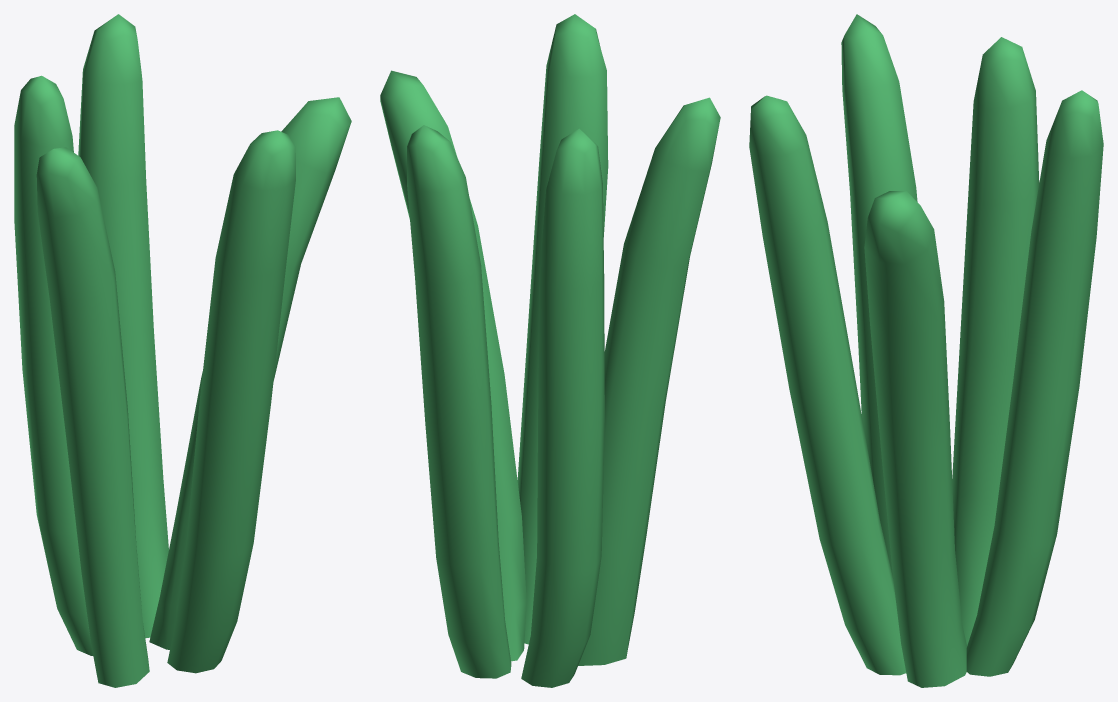
Rendered from Grass_B_06.fbx.
The picture shows the model from 3 angles, left to right: view 1: azimuth 30°, elevation 25°; view 2: azimuth 150°, elevation 25°; view 3: azimuth 270°, elevation 25°; orthographic projection.
Parts seen in each view (by area): view 1: Grass_B_06_LOD0; view 2: Grass_B_06_LOD0; view 3: Grass_B_06_LOD0.
Boxes of the visible parts, bbox=[...] form: Grass_B_06_LOD0: bbox=[14, 14, 351, 687]; Grass_B_06_LOD0: bbox=[380, 14, 720, 687]; Grass_B_06_LOD0: bbox=[749, 14, 1103, 687].
Size of what is drawn, in the model's own units: 323 by 550 by 303.
